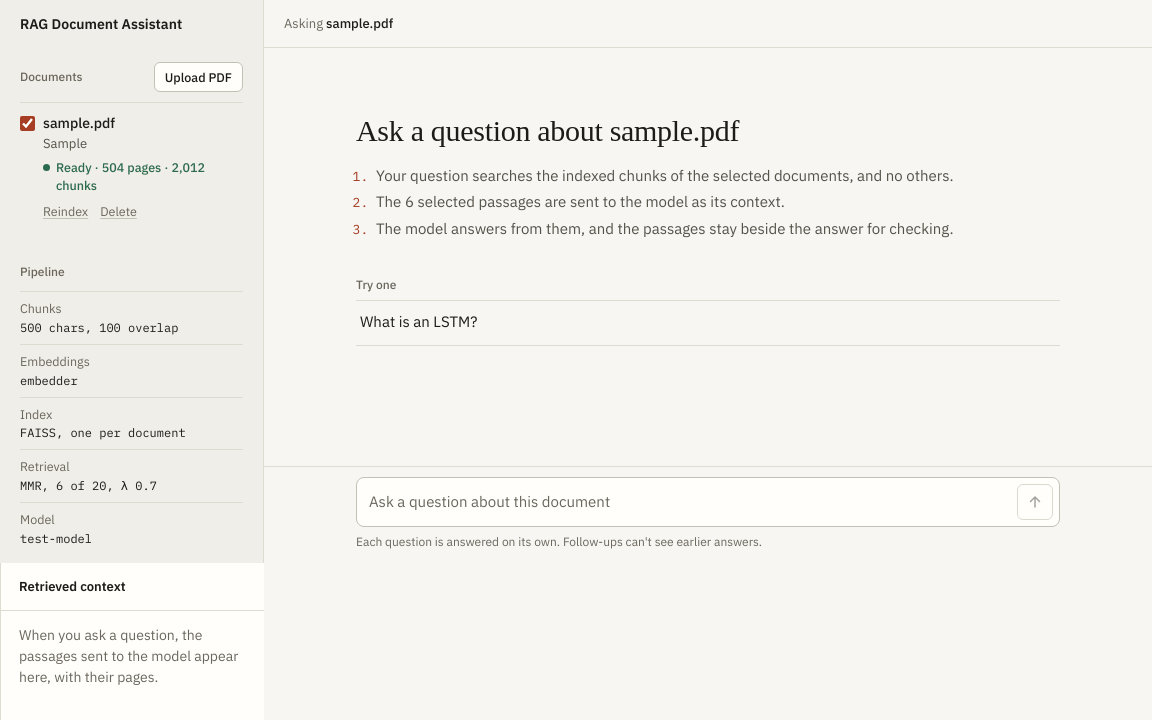
App › does not render images or raw HTML from model output
The image size is (1152, 720).
Step 1. Type "What does it do?" into the text box named "Question about the document" → (689, 502), box [369,484,1009,520]
Then press Enter
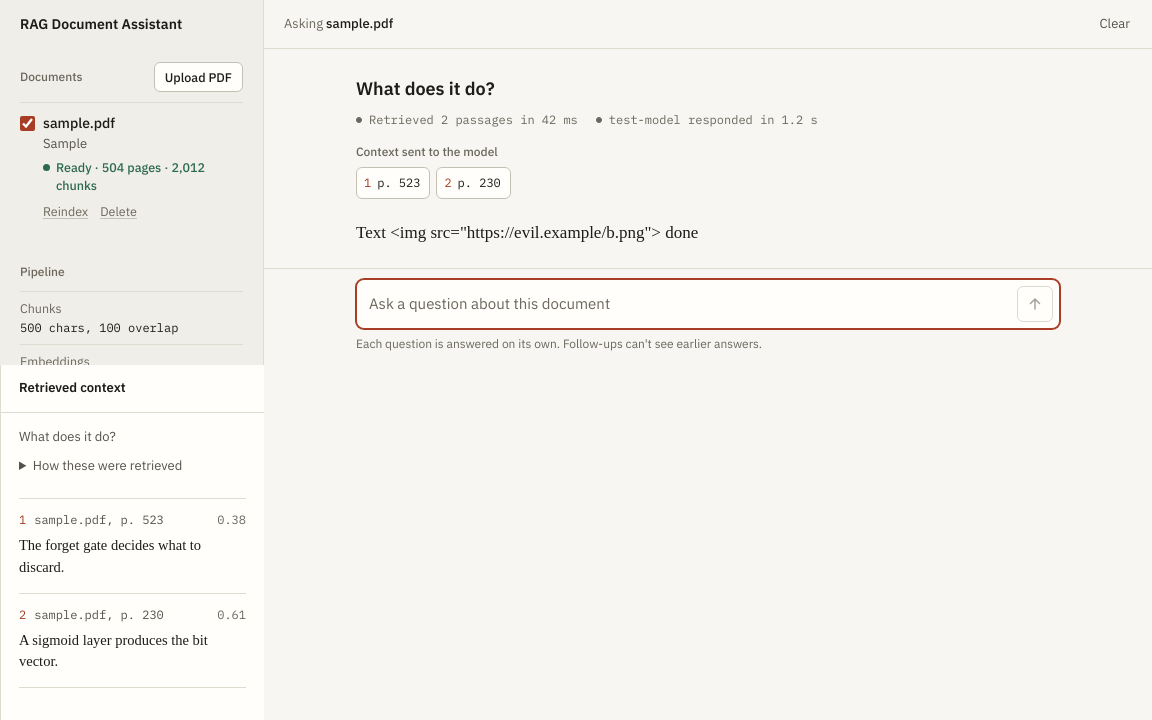
Check: the text "Text <img src=\"https://evil.example/b.png\"> done" is shown, box [356,223,698,242]
